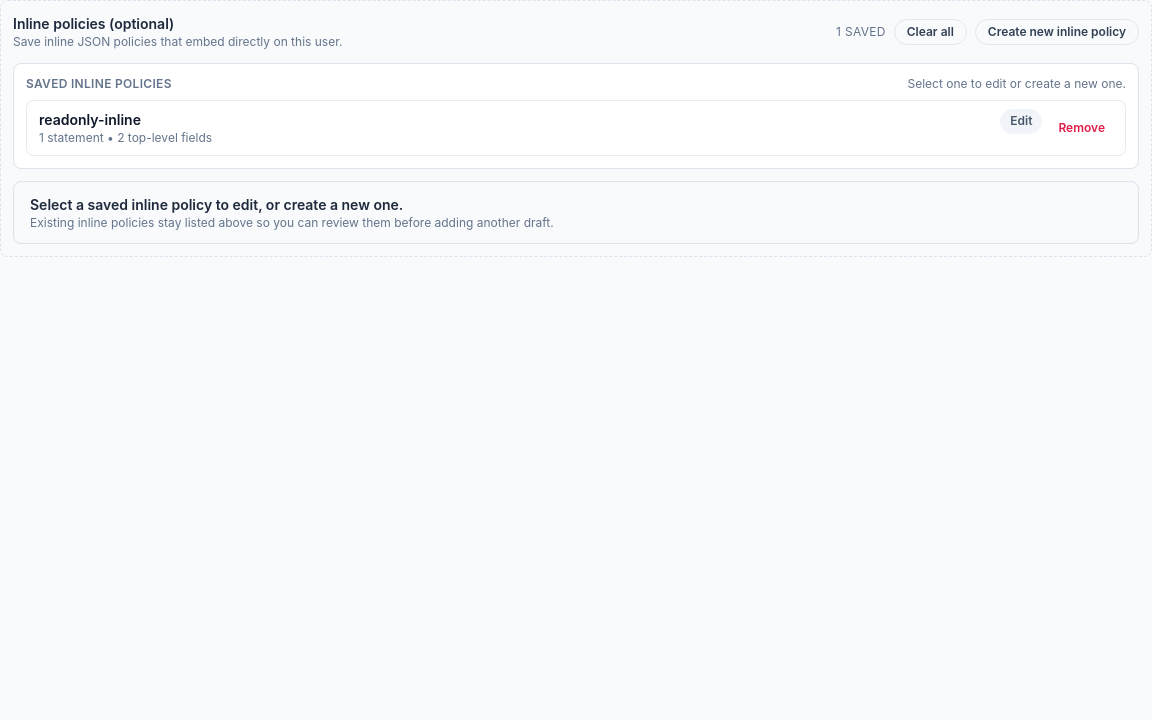
Test: InlinePolicyDraftEditor › loads a selected draft into the editor
This screenshot has width=1152, height=720.
Click the button "readonly-inline 1 statement • 2 top-level fields Edit" at [90, 120], box [39, 109, 1042, 146]
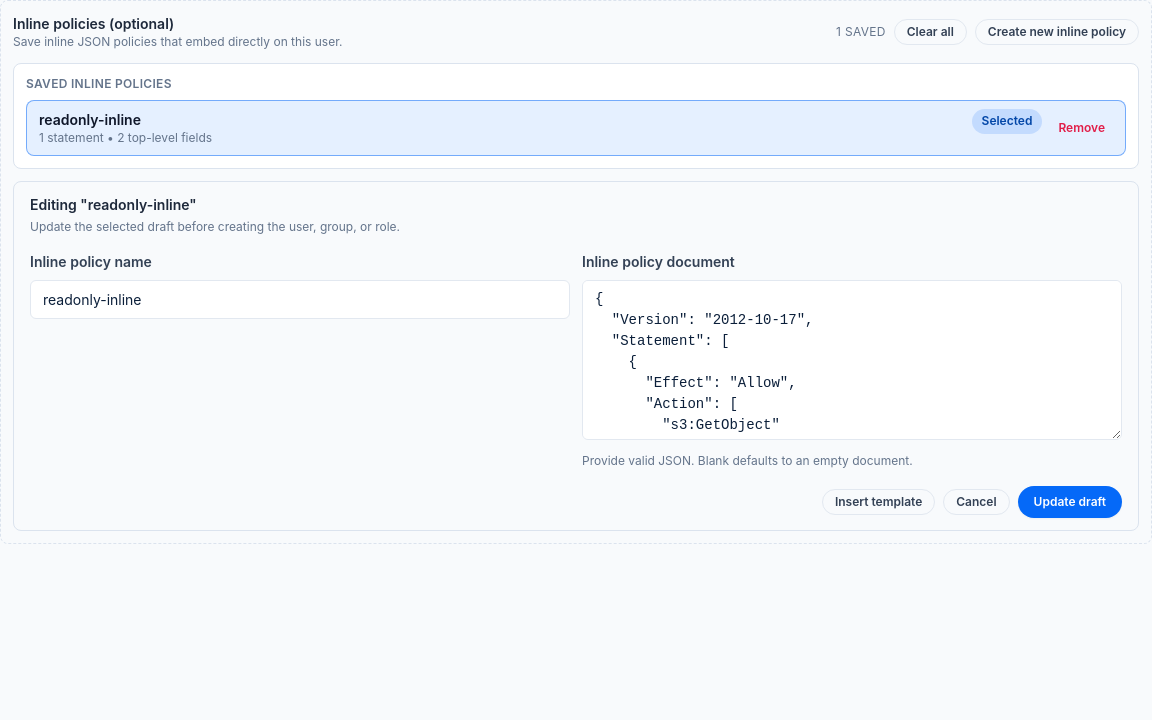
expect the field labelled "Inline policy name" holds "readonly-inline": met, box [30, 280, 570, 319]
expect the button "Update draft" is shown: met, box [1018, 486, 1122, 518]
